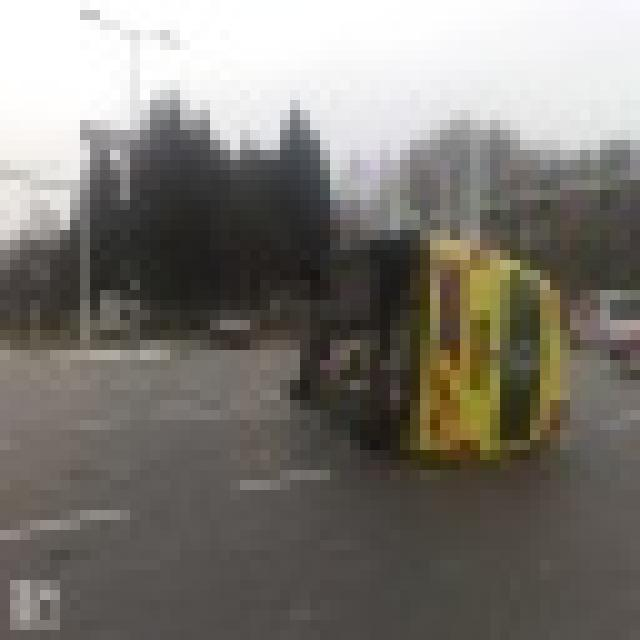Ambulance: (290, 220, 570, 460)
